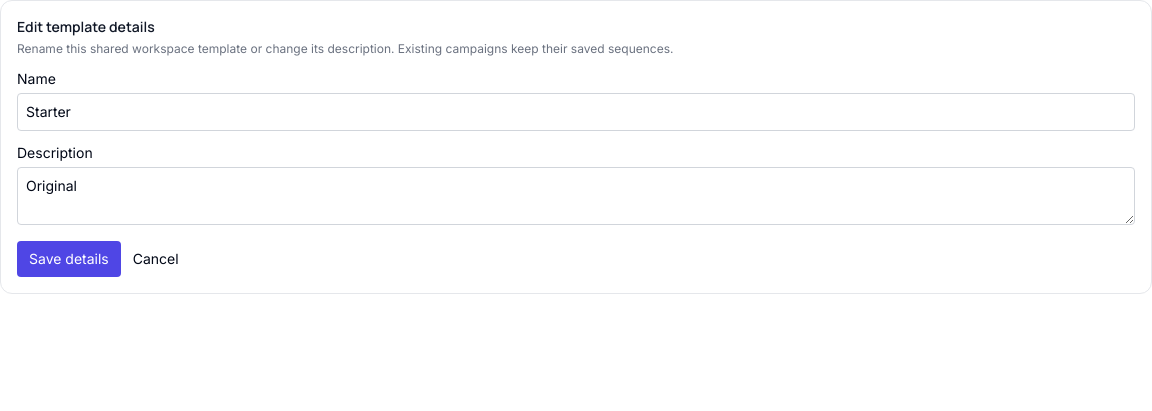
Test case: unknown network can recover only original status without POST replay
Later steps or results of the test are not shown.
Click the button "Save details" at [69, 259], box [17, 241, 121, 277]
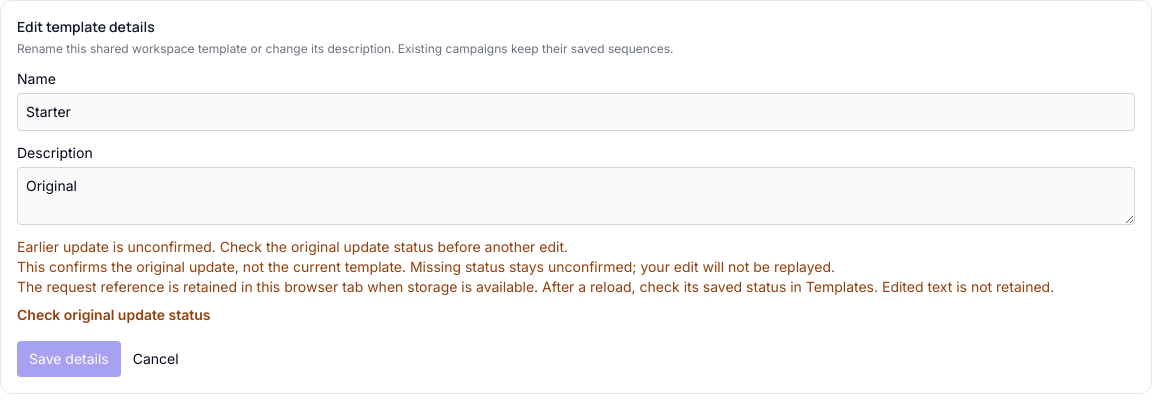
expect the text "Earlier update is unconfirmed" is shown: met, box [17, 238, 568, 255]
expect the button "Cancel" is disabled: met, box [133, 341, 179, 377]
